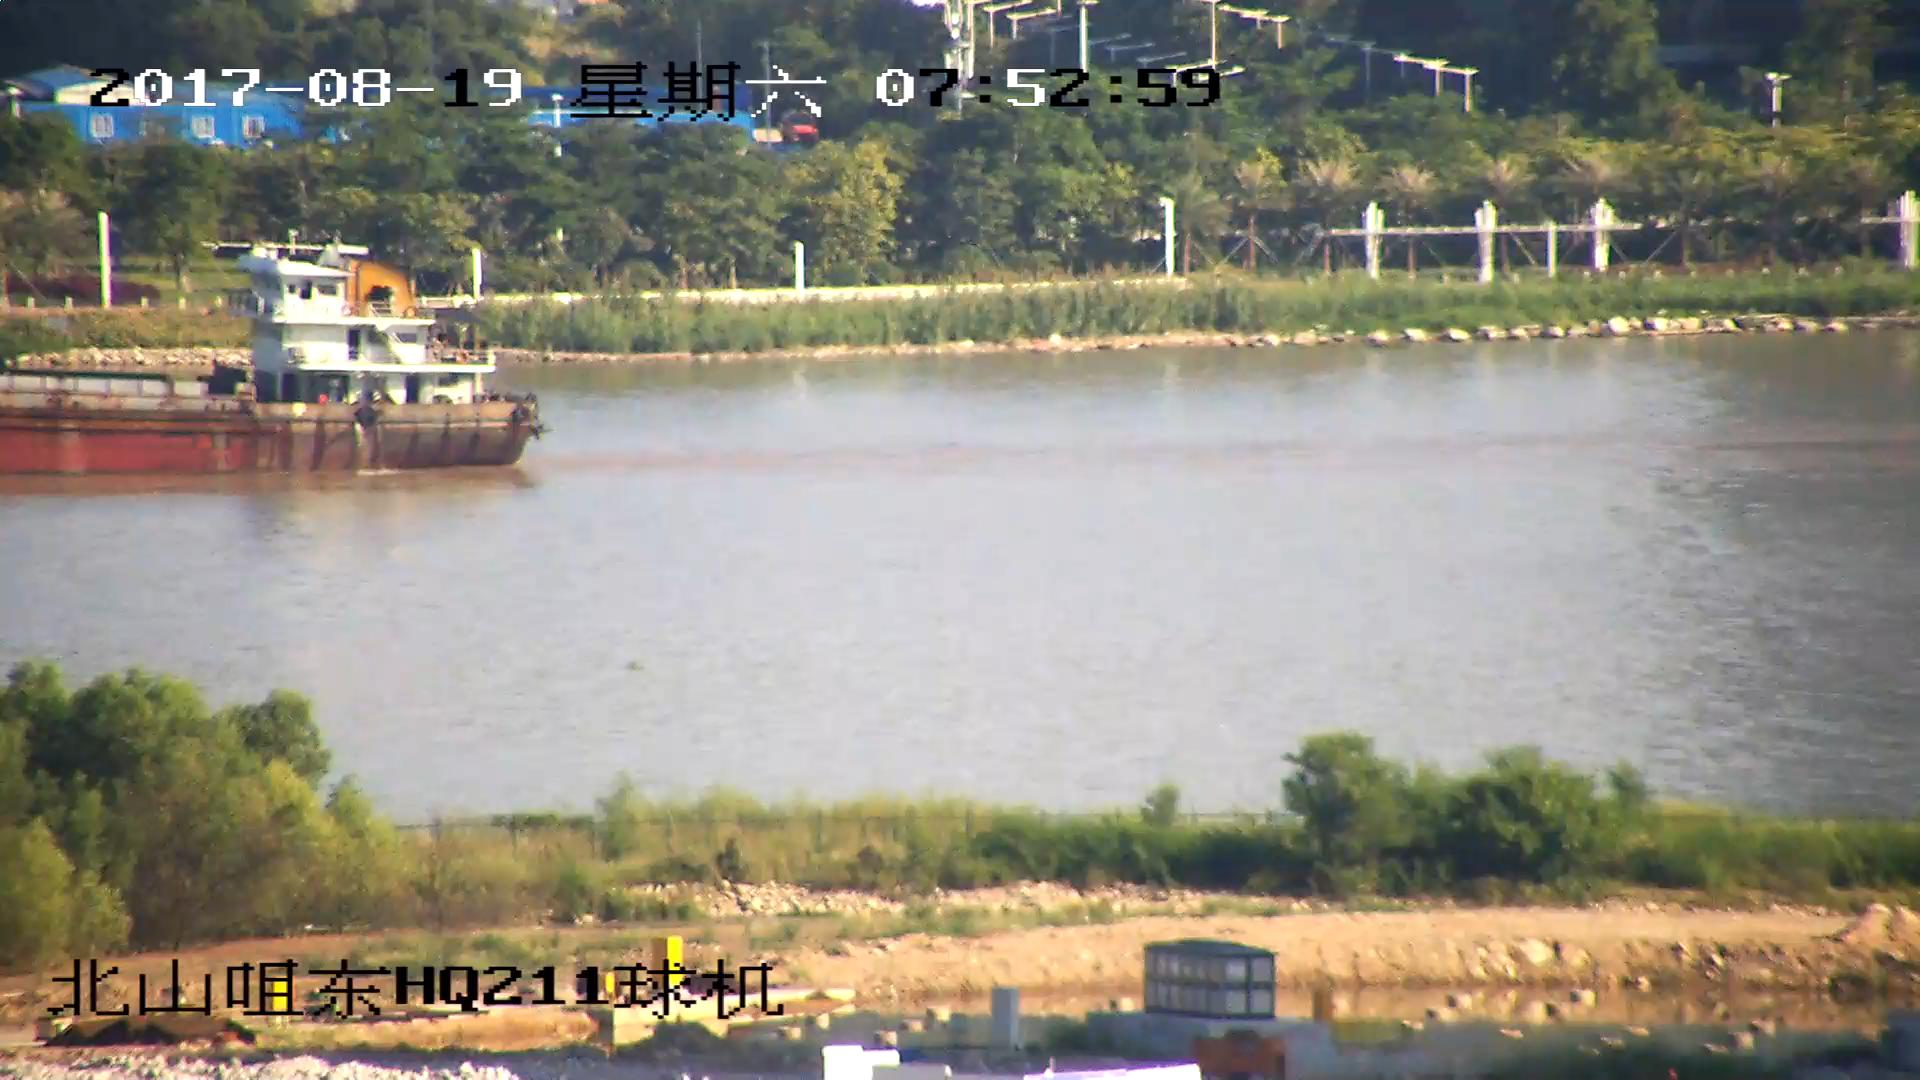bulk cargo carrier: (1, 236, 535, 475)
